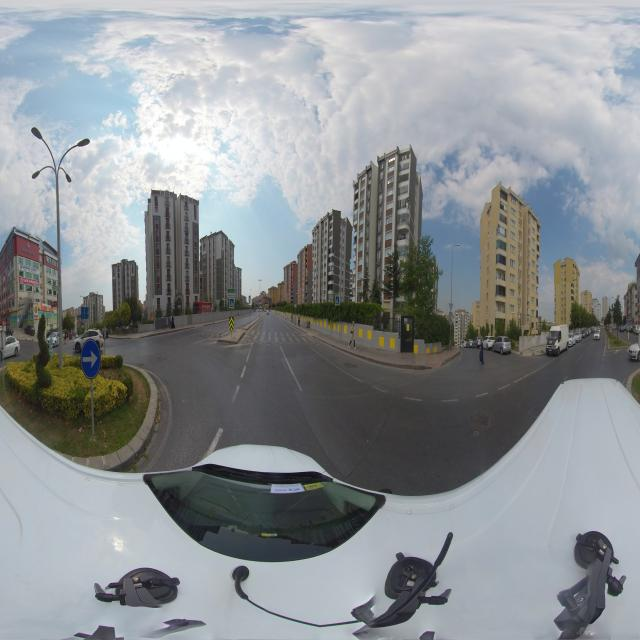SignStore: (19, 264, 39, 274), (19, 277, 39, 286), (38, 302, 54, 312), (7, 277, 15, 288), (7, 265, 14, 277), (48, 273, 58, 281), (0, 308, 9, 316), (8, 292, 15, 301), (52, 285, 58, 290)
